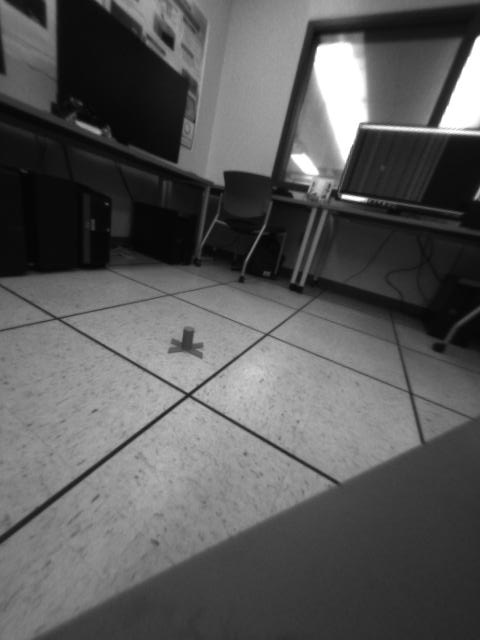X: (166, 327, 205, 359)
